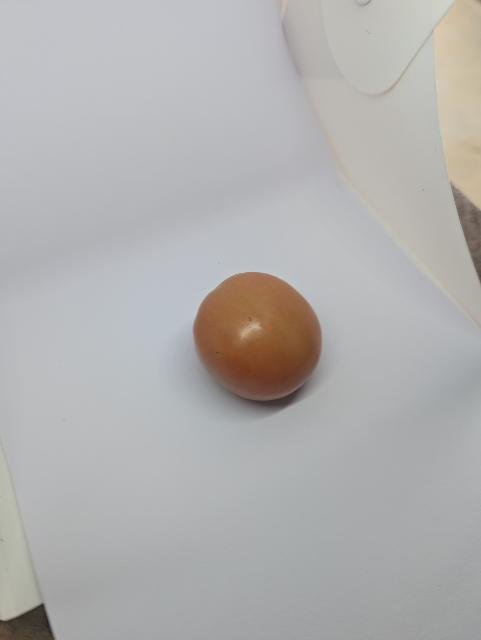turning: (180, 260, 331, 414)
